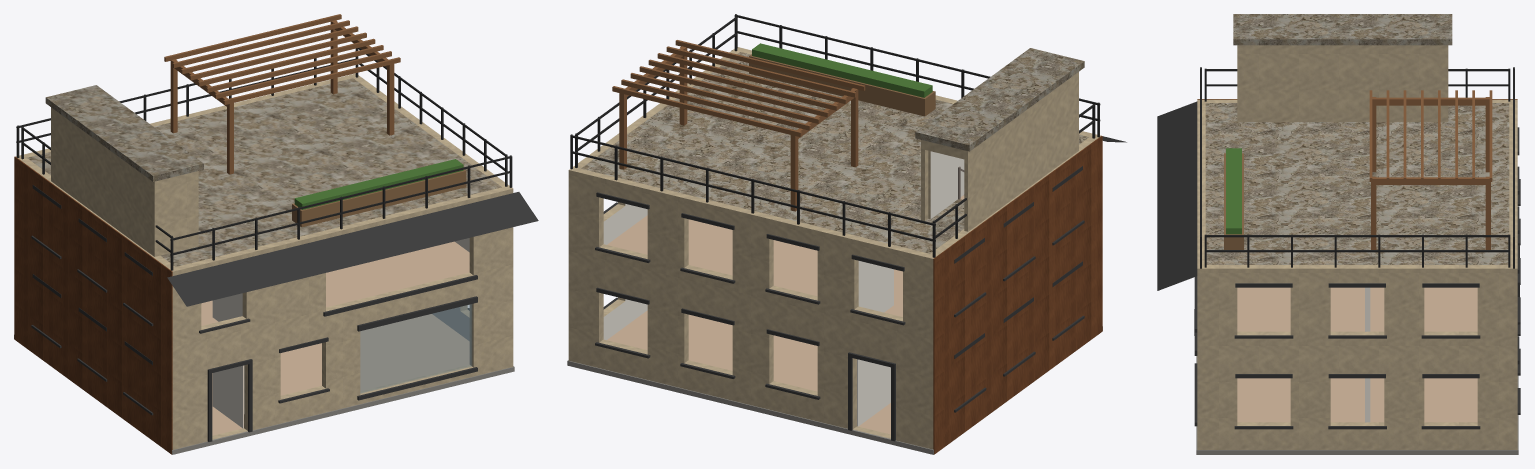
Rendered from cr-desert-modern.towns-v2.lod0.glb.
The picture shows the model from 3 angles, left to right: view 1: azimuth 30°, elevation 25°; view 2: azimuth 150°, elevation 25°; view 3: azimuth 270°, elevation 25°; orthographic projection. The views are drawn at different scales.
Visible parts, largest first — view 1: cr-desert-modern; view 2: cr-desert-modern; view 3: cr-desert-modern.
Boxes of the visible parts, bbox=[...] form: cr-desert-modern: bbox=[14, 14, 538, 454]; cr-desert-modern: bbox=[567, 14, 1126, 454]; cr-desert-modern: bbox=[1157, 14, 1520, 454].
Size of the model in its own units: 12.4 by 8.96 by 10.89.
7 materials, 3 textured.
